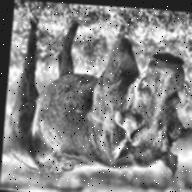boar: (18, 21, 192, 192)
